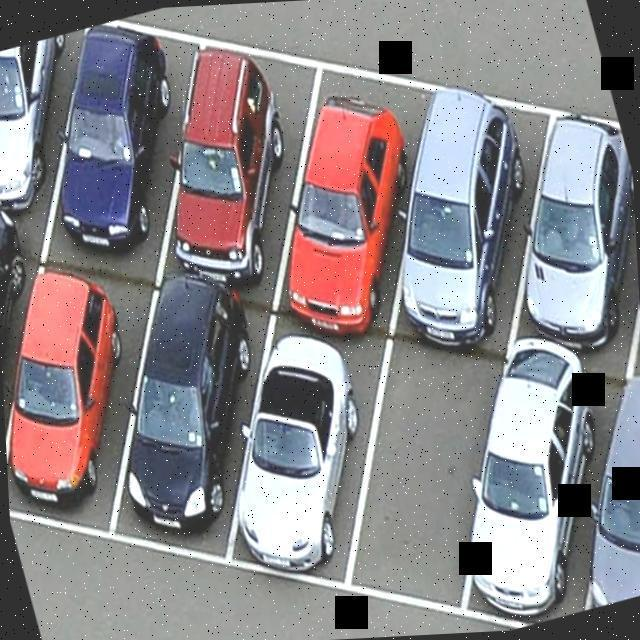car: (182, 313, 424, 608), (75, 274, 308, 558), (11, 4, 245, 272), (247, 71, 478, 337), (420, 357, 640, 634), (357, 71, 580, 332), (0, 255, 197, 537), (131, 51, 358, 290), (480, 128, 640, 367), (0, 32, 107, 233), (544, 403, 640, 610), (0, 214, 72, 471)
free: (301, 329, 539, 633)
